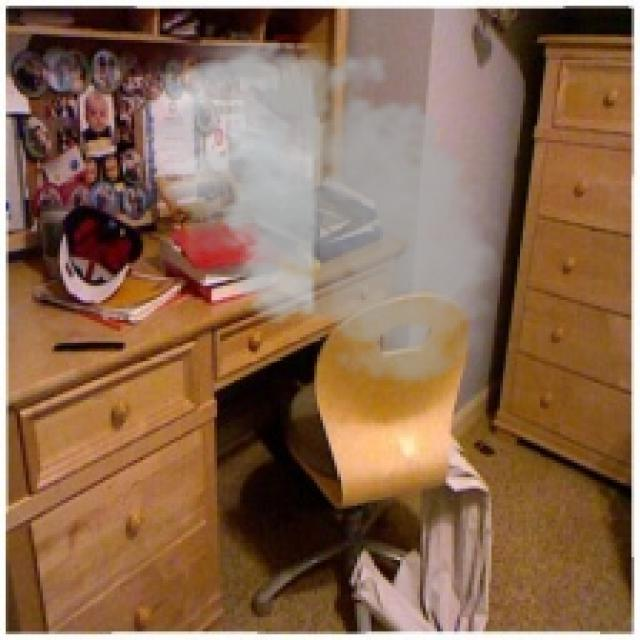smoke: (135, 29, 514, 392)
